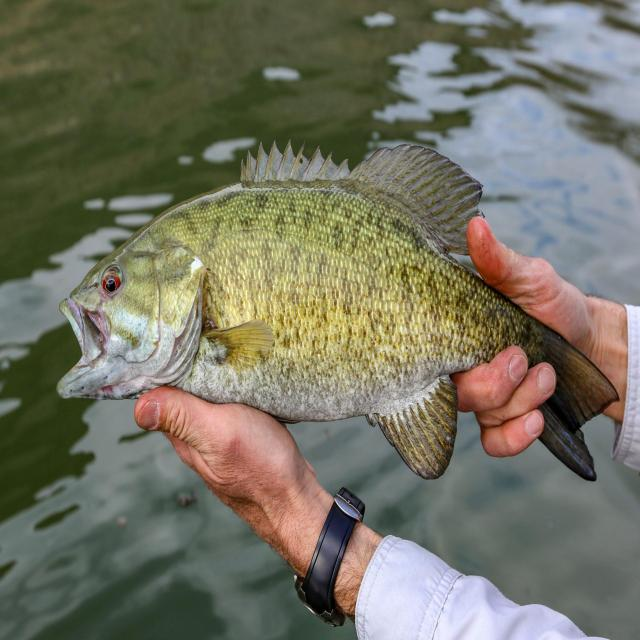Bass - Smallmouth: (58, 142, 616, 480)
